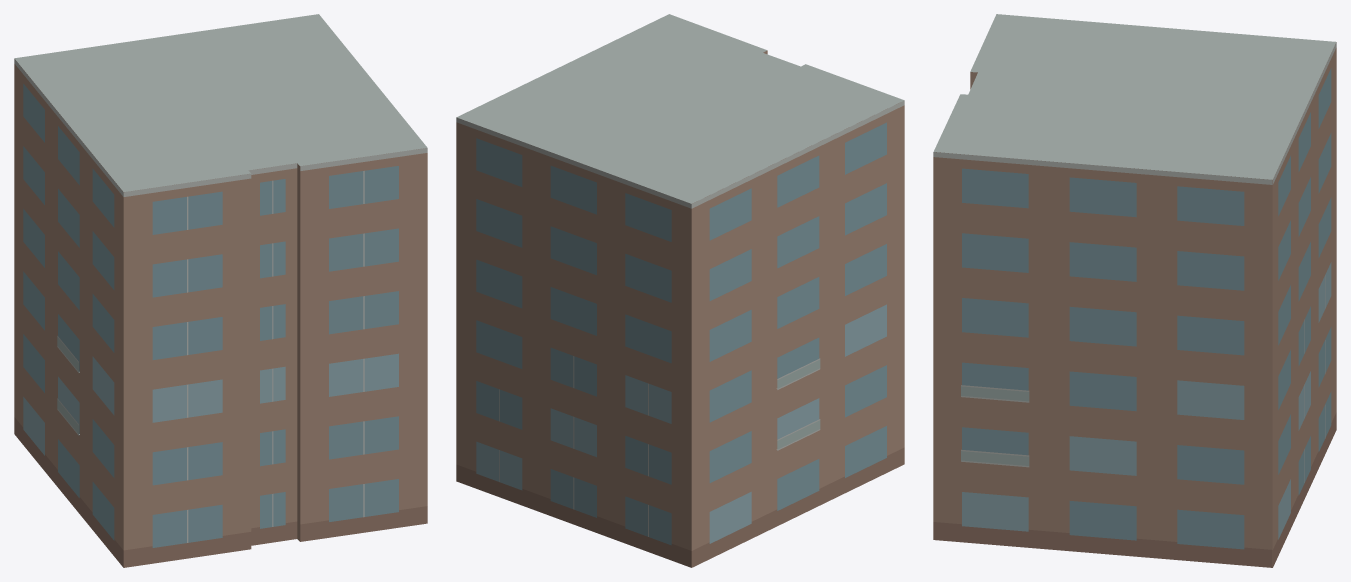
File: survey-upis-32531617.glb
The picture shows the model from 3 angles, left to right: view 1: azimuth 30°, elevation 25°; view 2: azimuth 150°, elevation 25°; view 3: azimuth 270°, elevation 25°; orthographic projection. The views are drawn at different scales.
Visible parts, largest first — view 1: survey-upis-32531617.tmp; view 2: survey-upis-32531617.tmp; view 3: survey-upis-32531617.tmp.
Boxes of the visible parts, x1,y1,x2,y2 form: survey-upis-32531617.tmp: (14, 14, 427, 567); survey-upis-32531617.tmp: (456, 14, 904, 567); survey-upis-32531617.tmp: (933, 14, 1336, 567).
Bounding box in the file's own units: 16.78 × 18.3 × 17.24.
